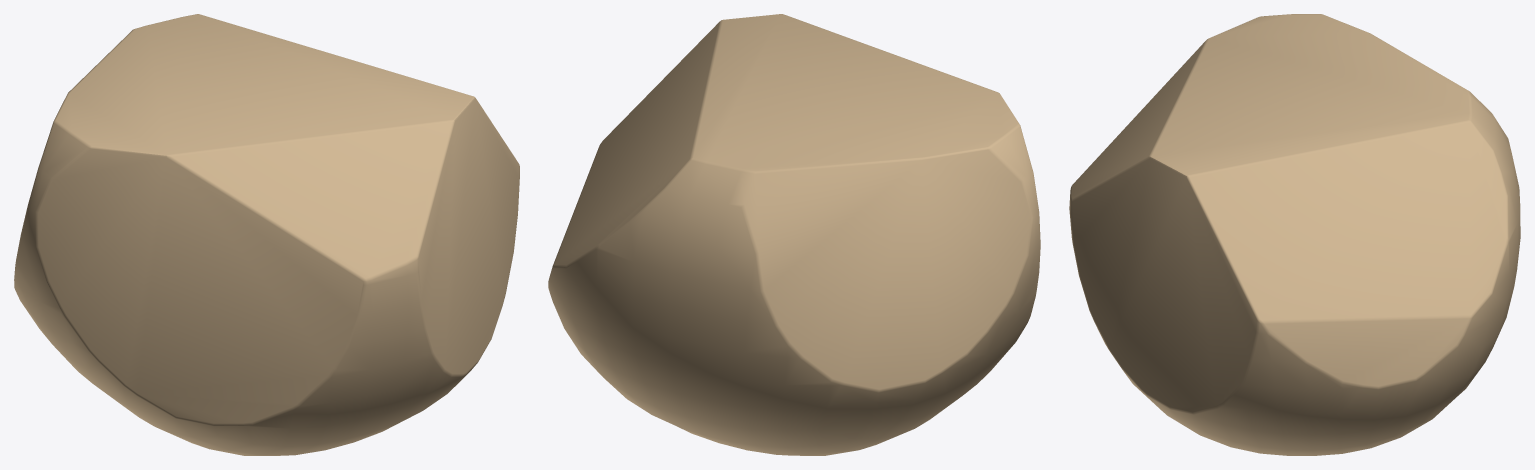
The model's file is rock_boulder_03.glb.
3 views of the same model, side by side, from view 1: azimuth 30°, elevation 25°; view 2: azimuth 150°, elevation 25°; view 3: azimuth 270°, elevation 25° (orthographic). The views are drawn at different scales.
Visible parts, largest first — view 1: rock_boulder_03; view 2: rock_boulder_03; view 3: rock_boulder_03.
Part boxes in pixels (left/top/right/bottom): rock_boulder_03: left=14, top=14, right=519, bottom=455; rock_boulder_03: left=548, top=14, right=1040, bottom=455; rock_boulder_03: left=1069, top=14, right=1520, bottom=455.
Size of the model in its own units: 2.5 by 1.78 by 2.27.
